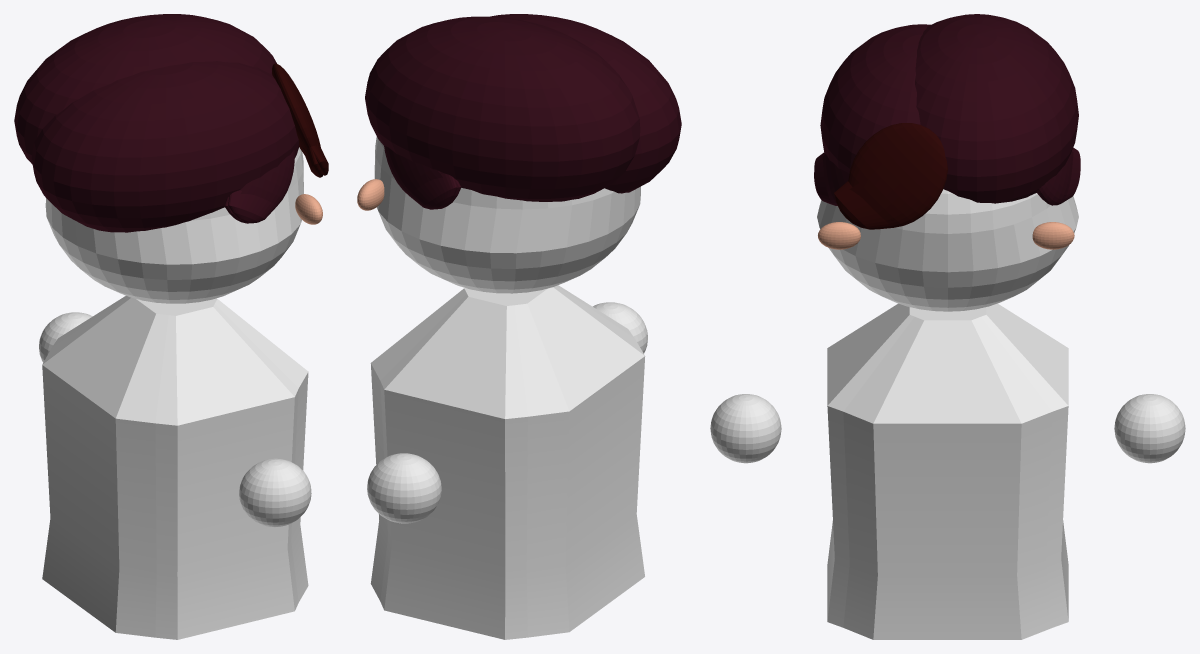
Rendered from Raymond.fbx.
3 views of the same model, side by side, from view 1: azimuth 30°, elevation 25°; view 2: azimuth 150°, elevation 25°; view 3: azimuth 270°, elevation 25° (orthographic). The views are drawn at different scales.
Parts seen in each view (by area): view 1: Cube, Sphere.008, Sphere, Sphere.009, Sphere.001, Sphere.026, Sphere.025, Sphere.004; view 2: Cube, Sphere.009, Sphere, Sphere.008, Sphere.001, Sphere.027, Sphere.004; view 3: Cube, Sphere.009, Sphere, Sphere.008, Sphere.025, Sphere.001, Sphere.004, Sphere.027, Sphere.026.
Part boxes in pixels (box(x1,y1,x2,y2)): Cube: box(42, 296, 308, 639); Sphere.008: box(31, 61, 298, 232); Sphere: box(45, 147, 303, 303); Sphere.009: box(14, 14, 276, 164); Sphere.001: box(39, 312, 311, 527); Sphere.026: box(224, 150, 294, 223); Sphere.025: box(272, 63, 328, 177); Sphere.004: box(295, 194, 322, 224); Cube: box(370, 285, 645, 639); Sphere.009: box(365, 16, 640, 201); Sphere: box(374, 136, 640, 293); Sphere.008: box(490, 14, 681, 193); Sphere.001: box(367, 302, 647, 523); Sphere.027: box(384, 146, 461, 209); Sphere.004: box(357, 179, 384, 210); Cube: box(827, 303, 1068, 639); Sphere.009: box(915, 14, 1078, 203); Sphere: box(817, 189, 1078, 311); Sphere.008: box(820, 24, 930, 173); Sphere.025: box(834, 123, 947, 229); Sphere.001: box(710, 394, 1185, 463); Sphere.004: box(818, 222, 1074, 249); Sphere.027: box(1036, 147, 1080, 205); Sphere.026: box(814, 152, 849, 205).
Bounding box in the file's own units: 231 × 456 × 356.
